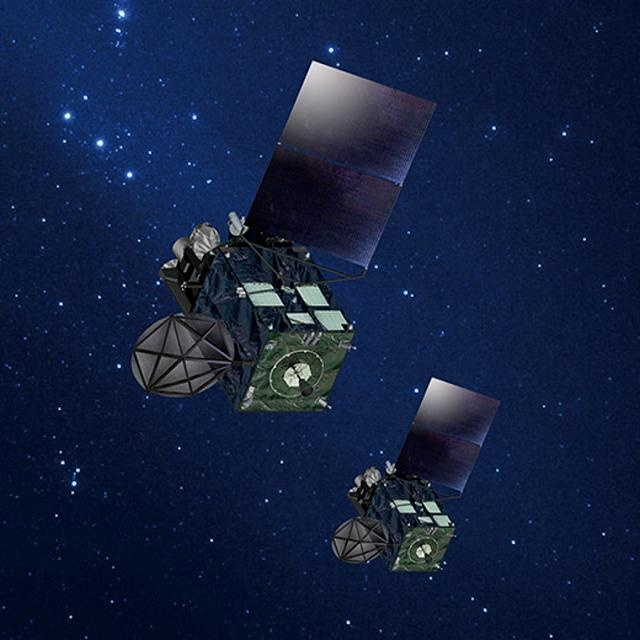satellite: (116, 13, 448, 422), (321, 370, 522, 595)
